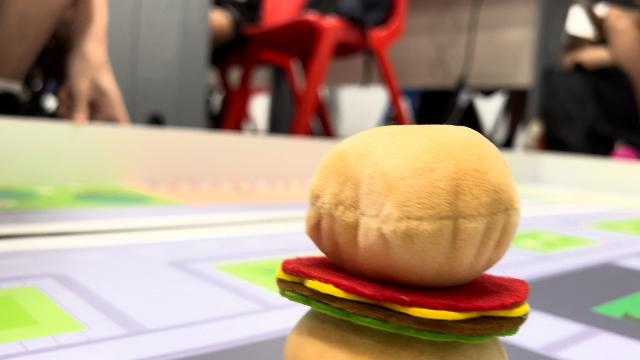burger: (274, 118, 532, 360)
